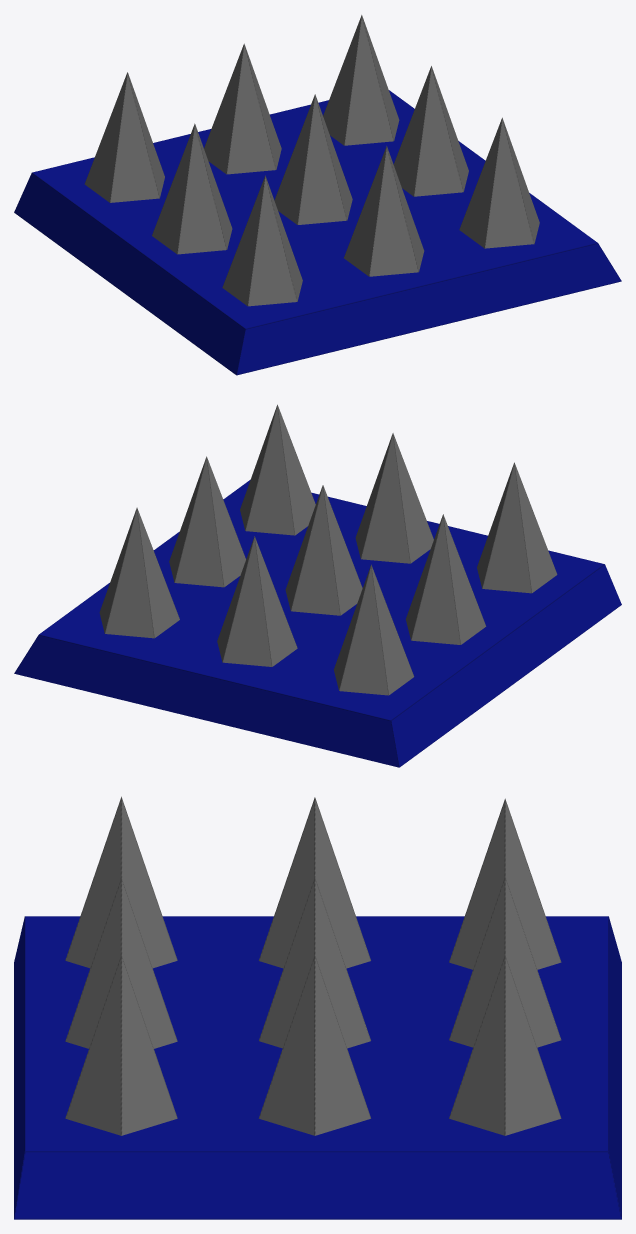
The model's file is TrapModel.fbx.
3 views of the same model, one above another, from view 1: azimuth 30°, elevation 25°; view 2: azimuth 150°, elevation 25°; view 3: azimuth 270°, elevation 25° (orthographic). The views are drawn at different scales.
Parts seen in each view (by area): view 1: pCube2; view 2: pCube2; view 3: pCube2.
Part boxes in pixels (x1,y1,x2,y2): pCube2: (14, 15, 621, 375); pCube2: (14, 404, 621, 767); pCube2: (14, 796, 621, 1219).
Bounding box in the file's own units: 10 × 3.84 × 10.
1 material, 1 textured.
